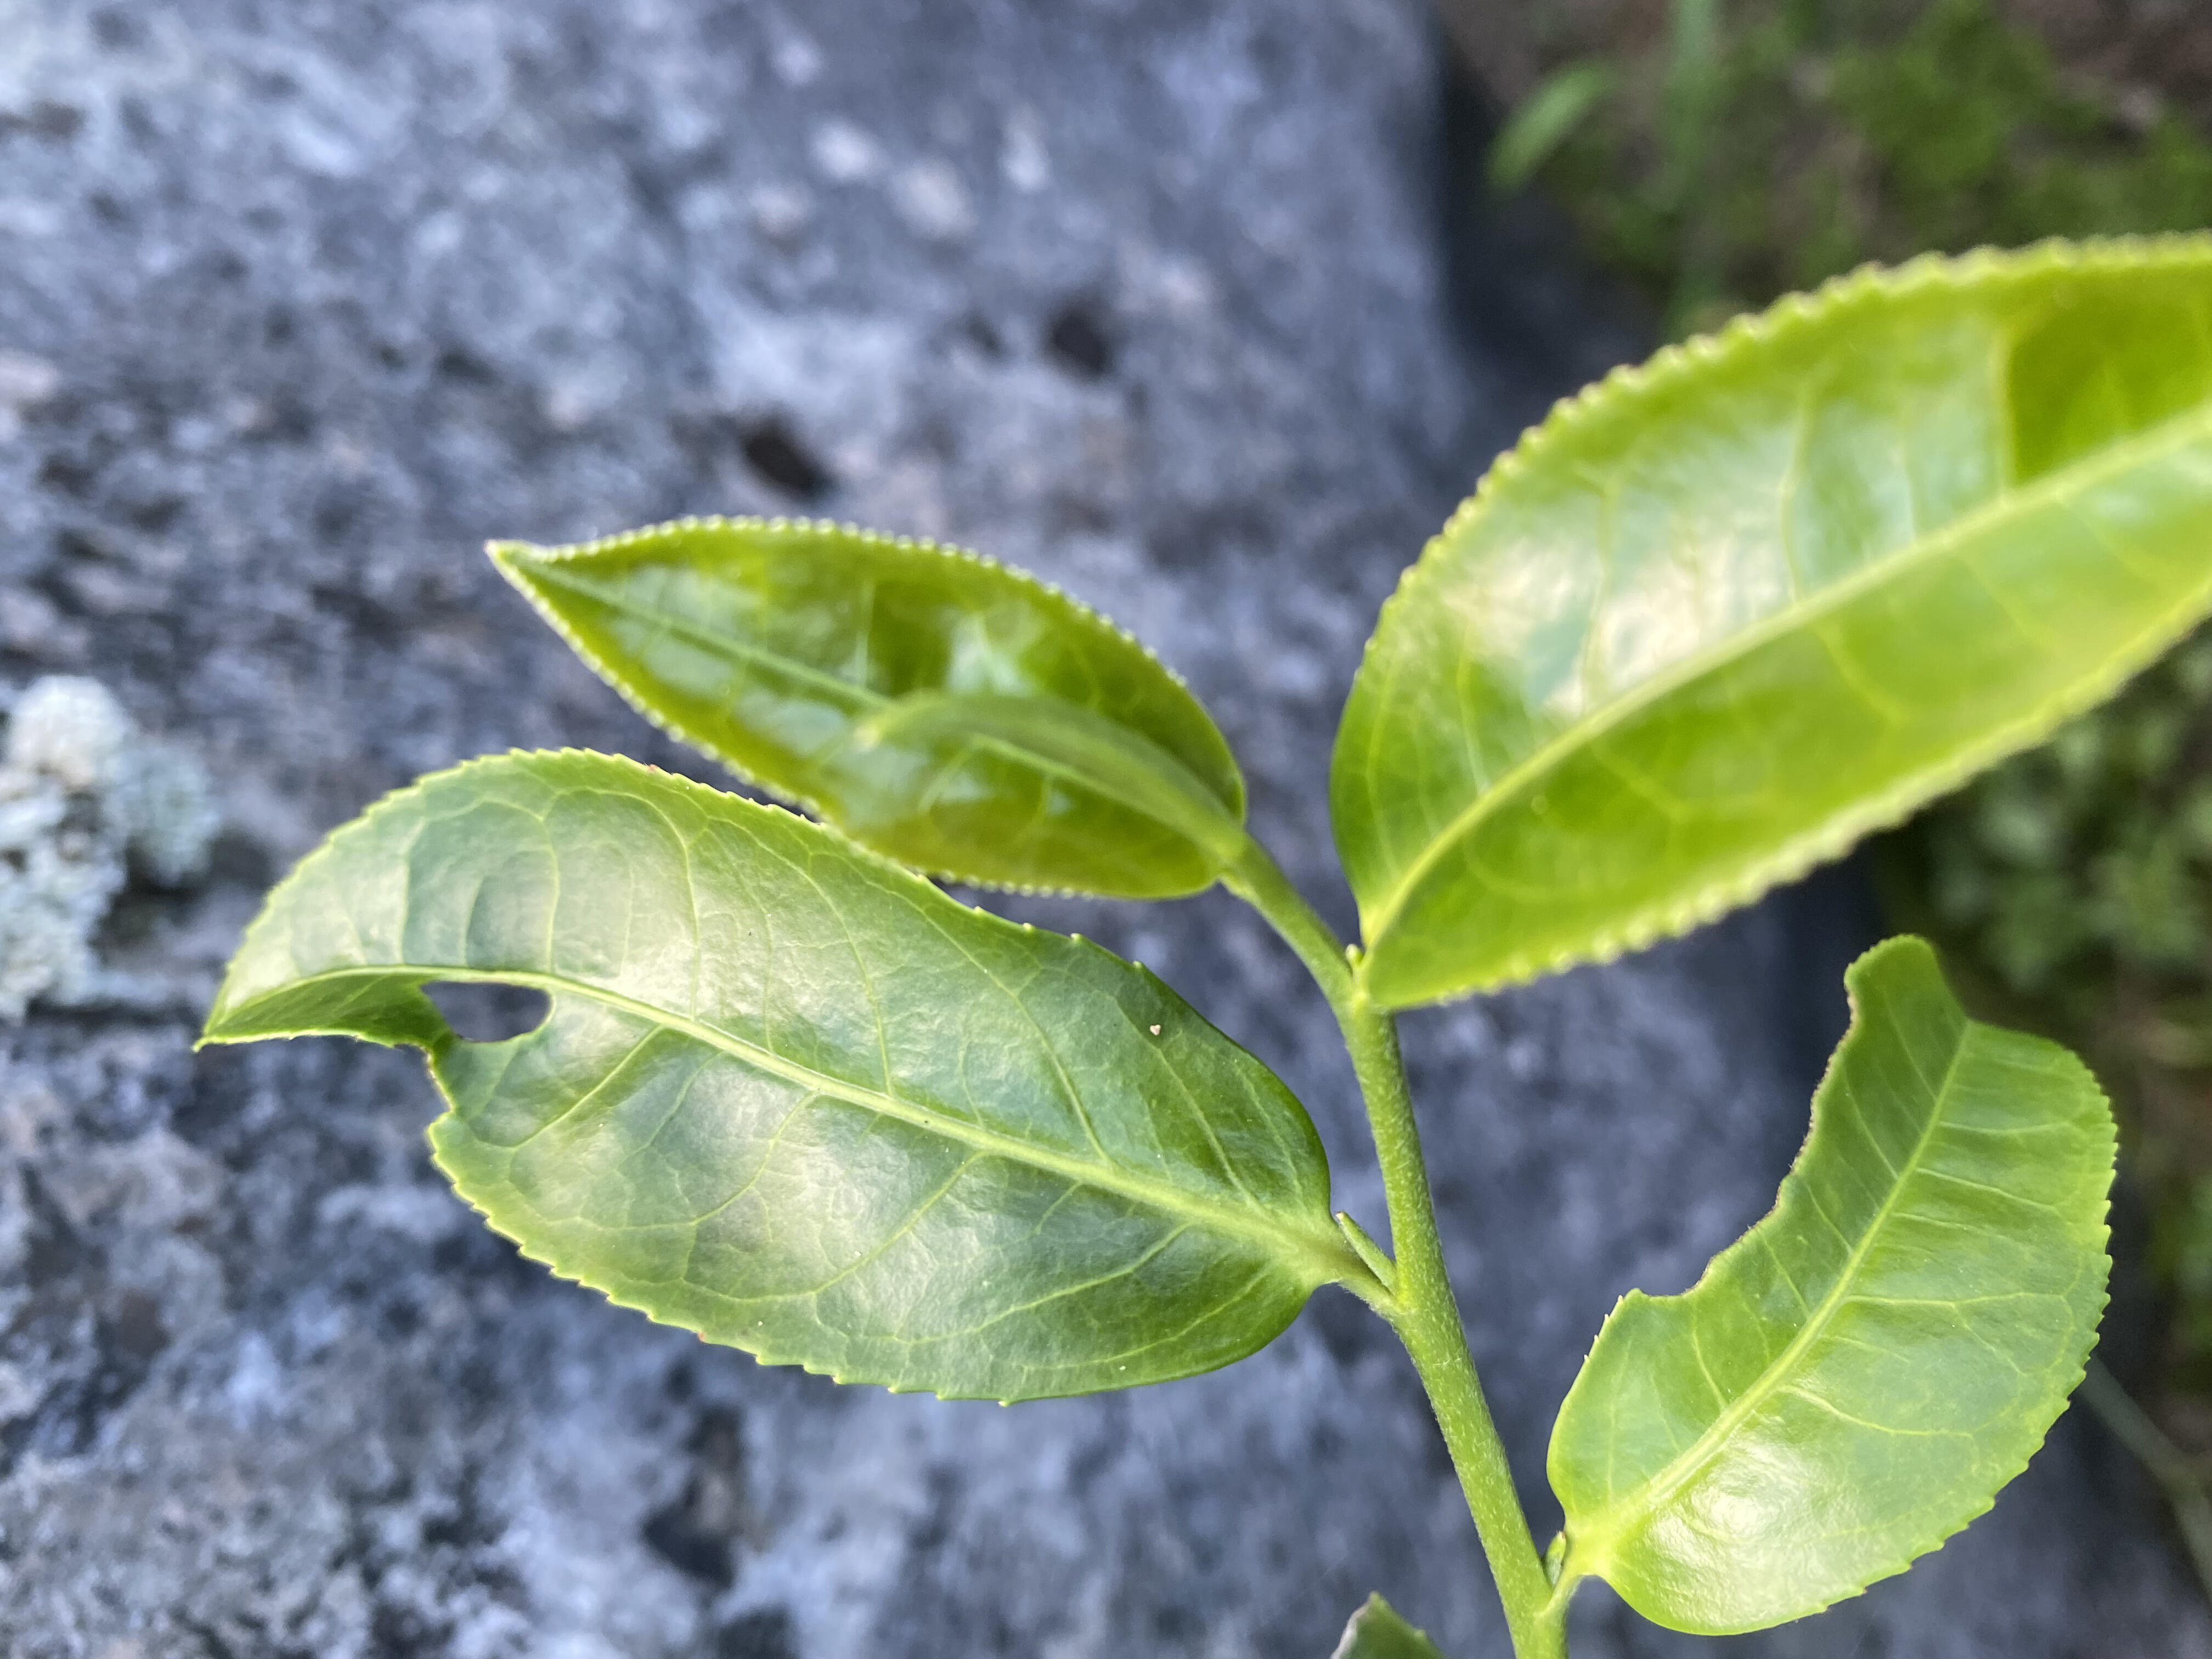chihuo_high: (1545, 931, 2127, 1640)
chihuo_low: (190, 744, 1338, 1410)
healthy: (1332, 228, 2207, 1019), (479, 507, 1244, 906)
